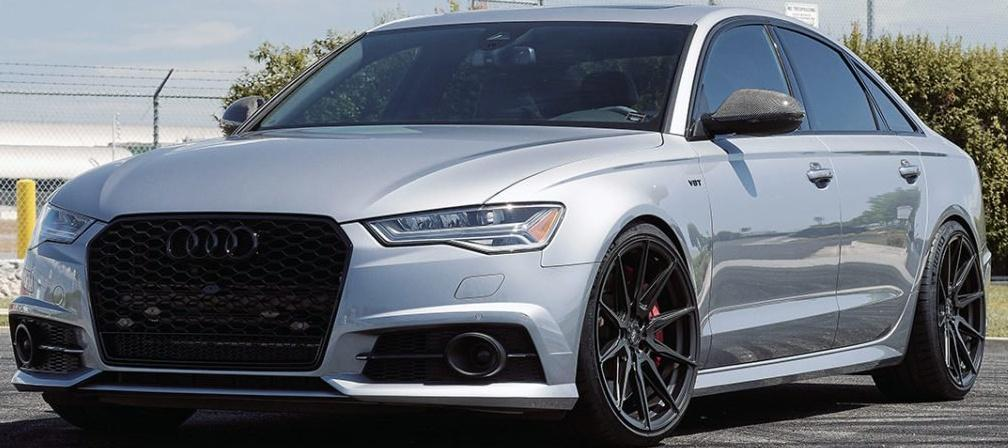Cars: (13, 9, 991, 446)
